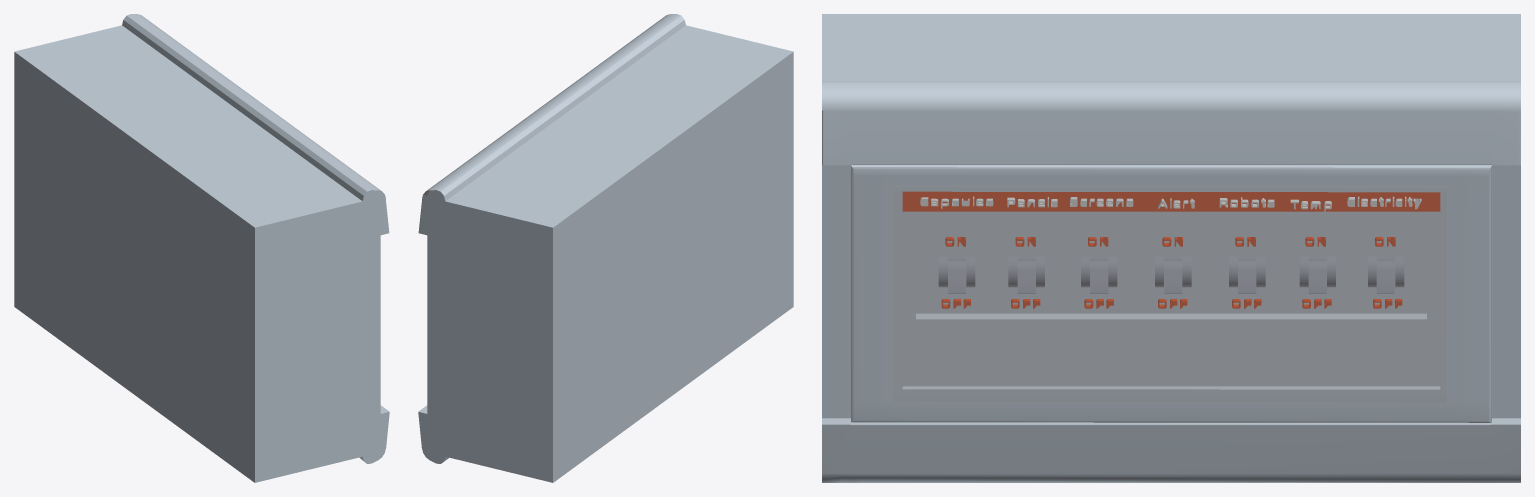
Rendered from Board.fbx.
3 renders of one model, left to right at view 1: azimuth 30°, elevation 25°; view 2: azimuth 150°, elevation 25°; view 3: azimuth 270°, elevation 25°, orthographic. The views are drawn at different scales.
Parts seen in each view (by area): view 1: Board_Base; view 2: Board_Base; view 3: Board_Base, Glass.
Boxes of the visible parts, box(x1,y1,x2,y2) form: Board_Base: box(14, 14, 389, 482); Board_Base: box(418, 14, 793, 482); Board_Base: box(822, 14, 1520, 482); Glass: box(851, 165, 1491, 422).
Bounding box in the file's own units: 2.5 × 4.82 × 7.69.
